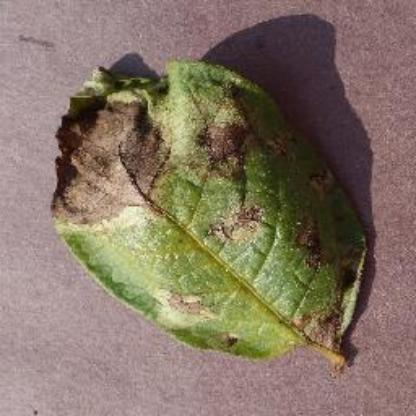Late-Blight: (29, 21, 377, 383)
